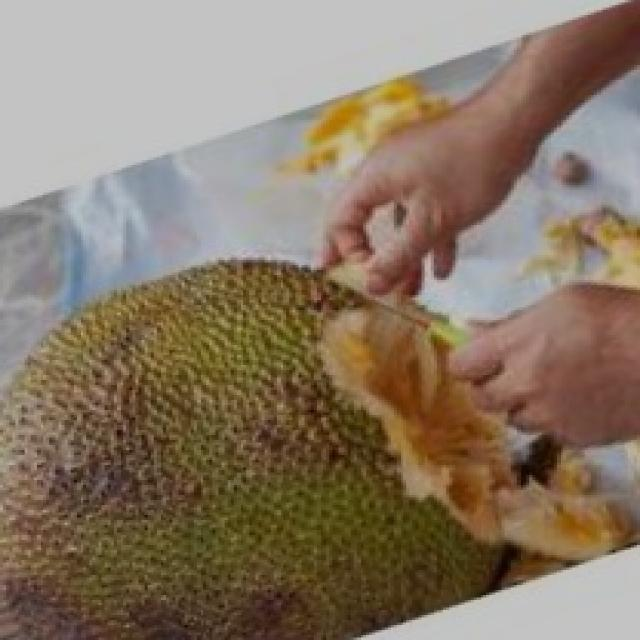Fruit: (0, 227, 443, 640)
